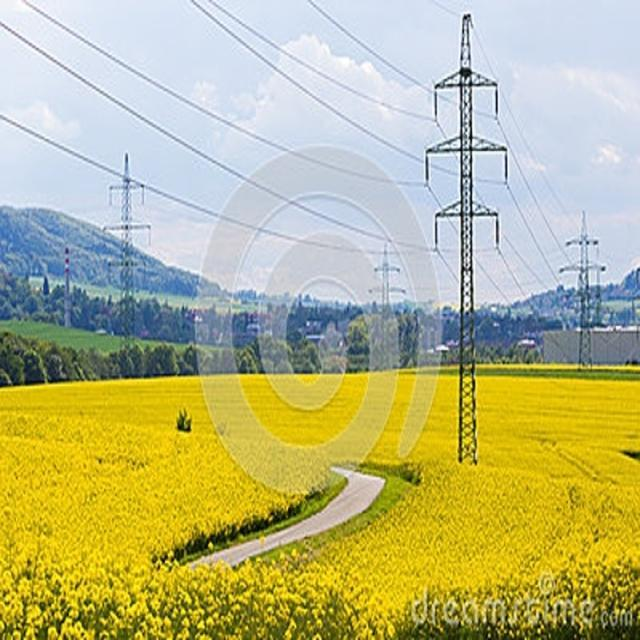non-critical vegetation: (426, 9, 504, 467), (103, 148, 151, 370), (556, 206, 606, 375)
